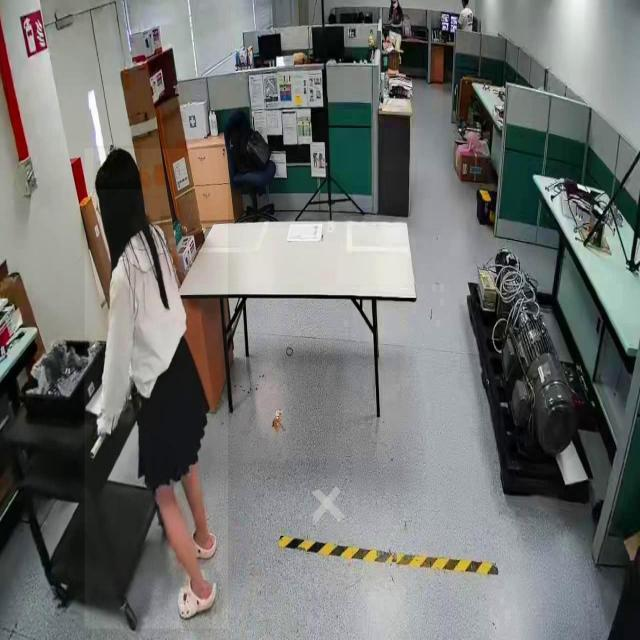head_nohelmet: (94, 146, 142, 190)
person: (84, 148, 228, 630), (458, 0, 474, 34)
